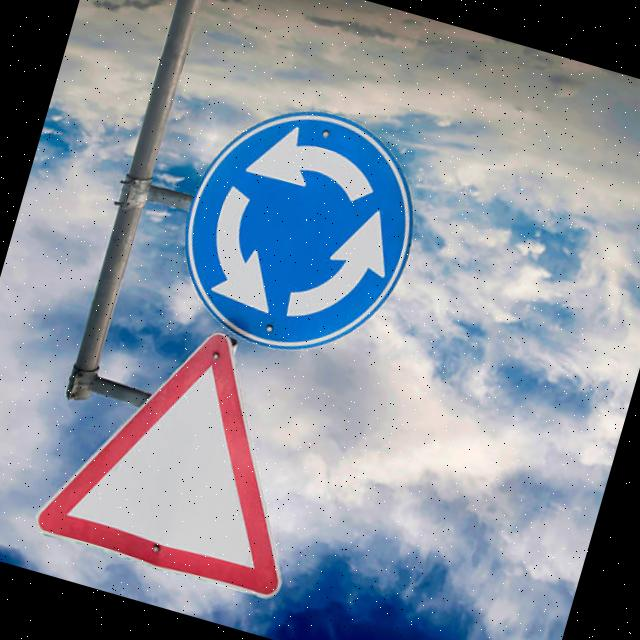give_way: (31, 300, 344, 608)
